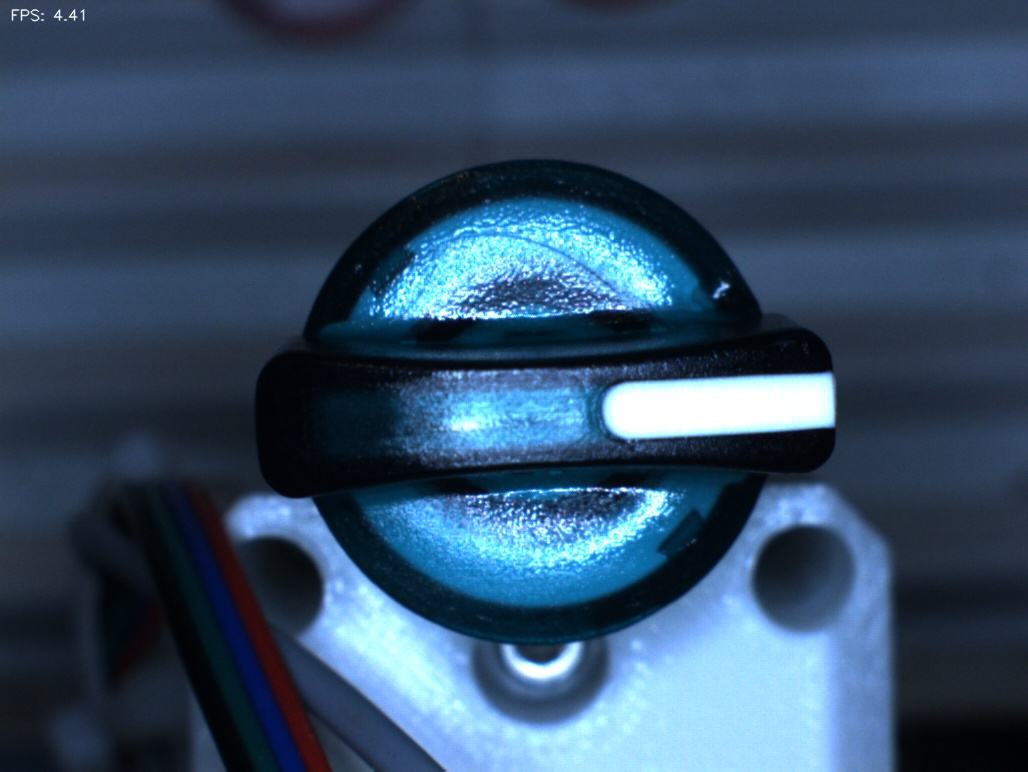Choc: (681, 252, 747, 318)
